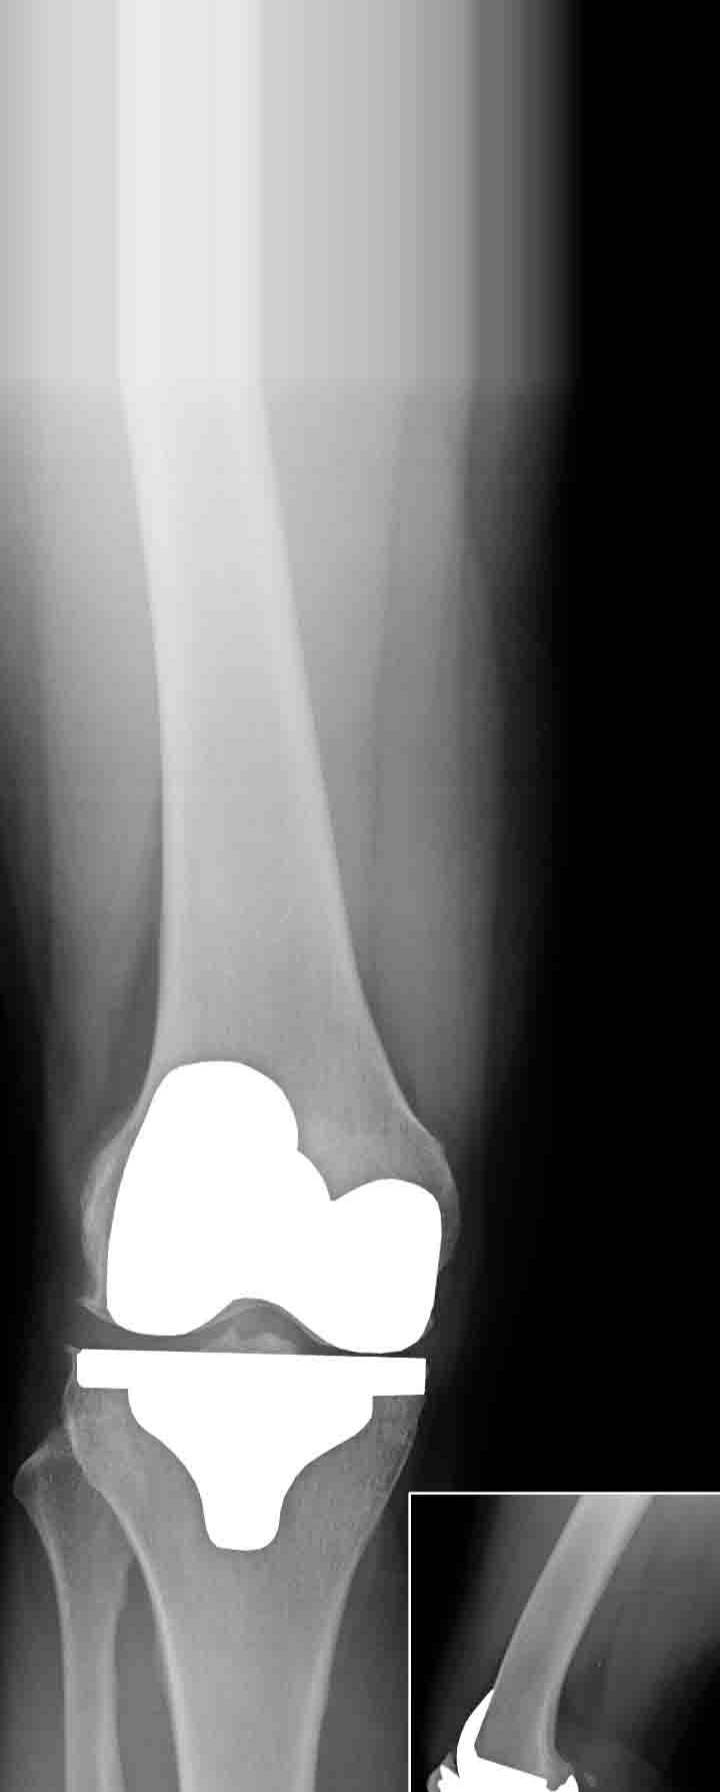Knee-TriathlonTritanium-Stryker: (59, 1045, 448, 1557), (431, 1690, 589, 1792)
